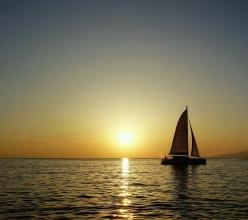fanchuan: (158, 106, 216, 166)
